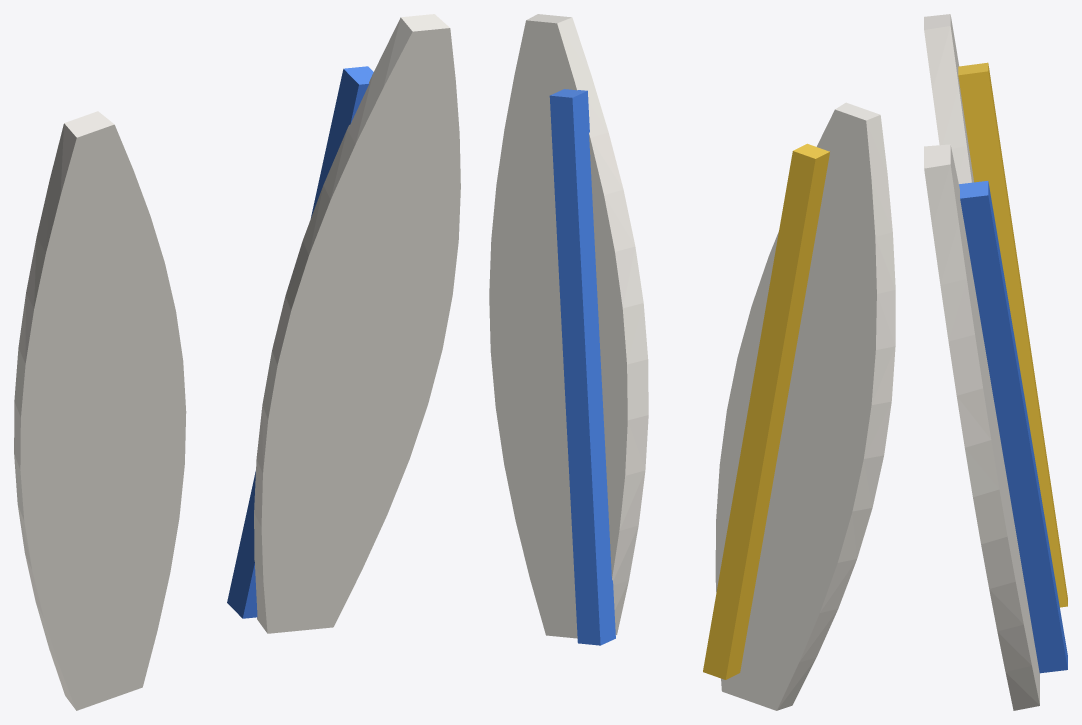
File: Surfboards.glb
3 views of the same model, side by side, from view 1: azimuth 30°, elevation 25°; view 2: azimuth 150°, elevation 25°; view 3: azimuth 270°, elevation 25° (orthographic). The views are drawn at different scales.
Parts seen in each view (by area): view 1: Surfboards; view 2: Surfboards; view 3: Surfboards.
Part boxes in pixels (x1,y1,x2,y2): Surfboards: (14,14,460,710); Surfboards: (489,14,895,710); Surfboards: (924,14,1067,710).
Bounding box in the file's own units: 5.2 × 7.42 × 1.61.
Materials: 1 (1 with a texture image).
